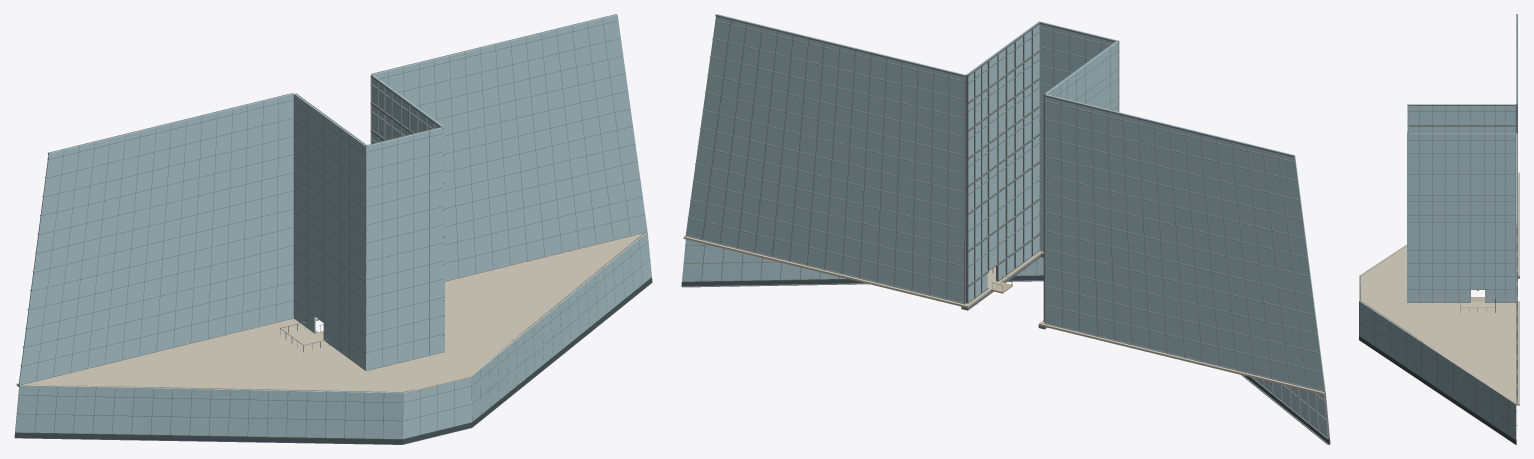
File: G7_Completion_Prior_G7C2_Aft_Architecture_r002.glb
The picture shows the model from 3 angles, left to right: view 1: azimuth 30°, elevation 25°; view 2: azimuth 150°, elevation 25°; view 3: azimuth 270°, elevation 25°; orthographic projection. The views are drawn at different scales.
Visible parts, largest first — view 1: G7C2_Aft_glass_solid_skin, G7C2_Aft_roof_solid_roof, G7C2_Aft_metal_solid_skin, G7C2_Aft_metal_solid_frame, G7C2_Aft_shell_solid_skin; view 2: G7C2_Aft_glass_solid_skin, G7C2_Aft_metal_solid_frame, G7C2_Aft_roof_solid_roof, G7C2_Aft_shell_solid_skin, G7C2_Aft_metal_solid_skin; view 3: G7C2_Aft_glass_solid_skin, G7C2_Aft_roof_solid_roof, G7C2_Aft_metal_solid_skin, G7C2_Aft_metal_solid_frame, G7C2_Aft_shell_solid_skin.
Boxes of the visible parts, bbox=[...] form: G7C2_Aft_glass_solid_skin: bbox=[15, 14, 651, 438]; G7C2_Aft_roof_solid_roof: bbox=[16, 232, 646, 394]; G7C2_Aft_metal_solid_skin: bbox=[15, 18, 651, 439]; G7C2_Aft_metal_solid_frame: bbox=[14, 14, 652, 444]; G7C2_Aft_shell_solid_skin: bbox=[14, 277, 652, 444]; G7C2_Aft_glass_solid_skin: bbox=[682, 14, 1327, 436]; G7C2_Aft_metal_solid_frame: bbox=[681, 14, 1330, 444]; G7C2_Aft_roof_solid_roof: bbox=[683, 236, 1325, 394]; G7C2_Aft_shell_solid_skin: bbox=[681, 275, 1330, 444]; G7C2_Aft_metal_solid_skin: bbox=[731, 18, 1329, 438]; G7C2_Aft_glass_solid_skin: bbox=[1359, 14, 1516, 440]; G7C2_Aft_roof_solid_roof: bbox=[1359, 172, 1519, 405]; G7C2_Aft_metal_solid_skin: bbox=[1359, 25, 1516, 440]; G7C2_Aft_metal_solid_frame: bbox=[1359, 14, 1519, 444]; G7C2_Aft_shell_solid_skin: bbox=[1359, 336, 1516, 444].
Size of the model in its own units: 110 by 45.5 by 31.8.
Materials: 6 (5 with a texture image).
